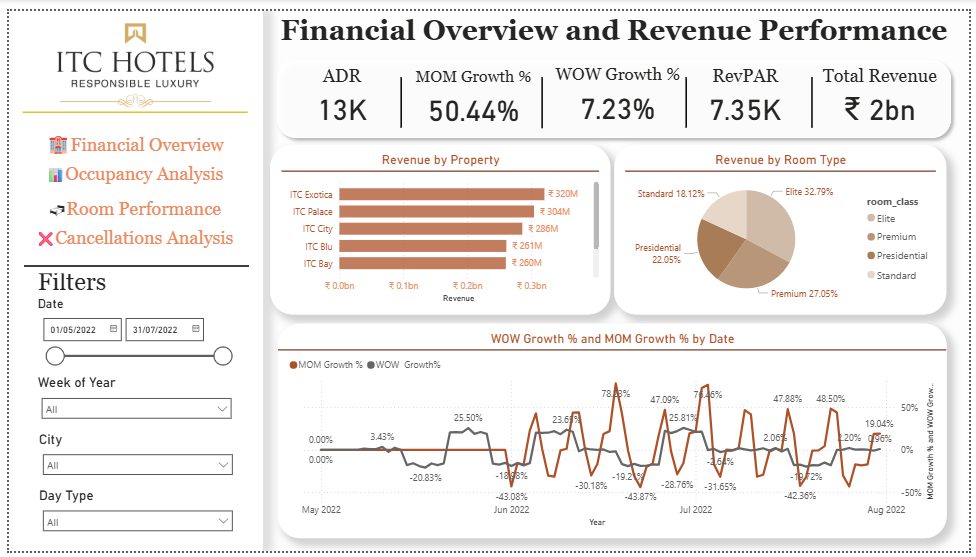

What the dashboard file says about the page in this screenshot:
{"tool":"powerbi","page":{"name":"Financial Overview ","canvas":[1280,720],"ordinal":0},"visuals":[{"type":"shape","title":"panel_Sidebar","box":[5,0,333.3,720],"z":0},{"type":"textbox","box":[333.3,0,946.7,56.7],"z":1000},{"type":"shape","box":[348.3,56.7,916.7,121.7],"z":2000},{"type":"textbox","title":"txt_Cancellations","box":[11.8,283.6,311.8,41.8],"z":3000},{"type":"shape","box":[511.2,88.8,22.5,67.5],"z":4000},{"type":"textbox","title":"txt_RoomPerf","box":[11.8,241.8,311.8,41.8],"z":5000},{"type":"card","title":"ADR","fields":{"Values":["key_measures.ADR"]},"box":[366.2,71.2,155,85],"z":6000},{"type":"textbox","title":"txt_Occupancy","box":[11.8,198.2,311.8,43.6],"z":7000},{"type":"card","title":"MOM Growth %","fields":{"Values":["ITC.MOM Growth %"]},"box":[535,75,168.3,85],"z":8000},{"type":"textbox","title":"txt_Financial","box":[12,157,312,42],"z":9000},{"type":"card","title":"Total Revenue","fields":{"Values":["key_measures.Revenue"]},"box":[1071.2,71.2,178.8,85],"z":10000},{"type":"actionButton","title":"btn_Cancellations","box":[15,285,313.3,41.7],"z":11000},{"type":"card","title":"RevPAR","fields":{"Values":["key_measures.RevPAR"]},"box":[891.2,71.2,180,85],"z":12000},{"type":"actionButton","title":"btn_RoomPerf","box":[15,243.3,313.3,40],"z":13000},{"type":"card","title":"WOW Growth %","fields":{"Values":["ITC.WOW  Growth%"]},"box":[721.7,71.7,180,85],"z":14000},{"type":"actionButton","title":"btn_Occupancy","box":[11.7,198.3,316.7,45],"z":15000},{"type":"shape","box":[700,88.3,21.7,68.3],"z":16000},{"type":"actionButton","title":"btn_Financial","box":[11.7,156.7,311.7,40],"z":17000},{"type":"shape","box":[891.2,88.8,22.5,67.5],"z":18000},{"type":"shape","box":[1060,88.8,21.2,67.5],"z":19000},{"type":"barChart","title":"Revenue by Property","fields":{"Category":["dim_hotels.property_name"],"Y":["key_measures.Revenue"]},"box":[348.3,178.3,453.3,226.7],"z":20000},{"type":"pieChart","title":"Revenue by Room Type","fields":{"Category":["dim_rooms.room_class"],"Y":["key_measures.Revenue"]},"box":[806.7,178.3,443.3,226.7],"z":21000},{"type":"lineChart","title":"WOW Growth % and MOM Growth % by Date","fields":{"Category":["dim_date.date.Variation.Date Hierarchy.Year","dim_date.date.Variation.Date Hierarchy.Quarter","dim_date.date.Variation.Date Hierarchy.Month","dim_date.date.Variation.Date Hierarchy.Day"],"Y":["ITC.MOM Growth %","ITC.WOW  Growth%"]},"box":[358.3,416.7,891.7,286.7],"z":22000},{"type":"shape","box":[18.3,123.3,300,23.3],"z":24000},{"type":"slicer","title":"Date","fields":{"Values":["dim_date.date"]},"box":[33.3,380,273.3,105],"z":26000},{"type":"shape","box":[20,320,300,40],"z":26001},{"type":"textbox","box":[33.3,345,173.3,46.7],"z":26002},{"type":"slicer","title":"Week of Year","fields":{"Values":["dim_date.week no"]},"box":[33.3,485,273.3,75],"z":26003},{"type":"slicer","title":"City","fields":{"Values":["dim_hotels.city"]},"box":[35,560,273.3,75],"z":26004},{"type":"slicer","title":"Day Type","fields":{"Values":["dim_date.day type"]},"box":[35,635,273.3,75],"z":26005},{"type":"image","box":[18.3,11.7,300,121.7],"z":26006}]}

Visuals, with their boxes in screenshot pixels (x1, y1, x2, y2), scaled from the page's 1280x720 canvas onto the 976x557 screenshot:
"panel_Sidebar" shape: x1=4 y1=0 x2=258 y2=556
textbox: x1=254 y1=0 x2=975 y2=44
shape: x1=266 y1=44 x2=965 y2=138
"txt_Cancellations" textbox: x1=9 y1=219 x2=247 y2=252
shape: x1=390 y1=69 x2=407 y2=121
"txt_RoomPerf" textbox: x1=9 y1=187 x2=247 y2=219
"ADR" card: x1=279 y1=55 x2=397 y2=121
"txt_Occupancy" textbox: x1=9 y1=153 x2=247 y2=187
"MOM Growth %" card: x1=408 y1=58 x2=536 y2=124
"txt_Financial" textbox: x1=9 y1=121 x2=247 y2=154
"Total Revenue" card: x1=817 y1=55 x2=953 y2=121
"btn_Cancellations" actionButton: x1=11 y1=220 x2=250 y2=253
"RevPAR" card: x1=680 y1=55 x2=817 y2=121
"btn_RoomPerf" actionButton: x1=11 y1=188 x2=250 y2=219
"WOW Growth %" card: x1=550 y1=55 x2=688 y2=121
"btn_Occupancy" actionButton: x1=9 y1=153 x2=250 y2=188
shape: x1=534 y1=68 x2=550 y2=121
"btn_Financial" actionButton: x1=9 y1=121 x2=247 y2=152
shape: x1=680 y1=69 x2=697 y2=121
shape: x1=808 y1=69 x2=824 y2=121
"Revenue by Property" barChart: x1=266 y1=138 x2=611 y2=313
"Revenue by Room Type" pieChart: x1=615 y1=138 x2=953 y2=313
"WOW Growth % and MOM Growth % by Date" lineChart: x1=273 y1=322 x2=953 y2=544
shape: x1=14 y1=95 x2=243 y2=113
"Date" slicer: x1=25 y1=294 x2=234 y2=375
shape: x1=15 y1=248 x2=244 y2=278
textbox: x1=25 y1=267 x2=158 y2=303
"Week of Year" slicer: x1=25 y1=375 x2=234 y2=433
"City" slicer: x1=27 y1=433 x2=235 y2=491
"Day Type" slicer: x1=27 y1=491 x2=235 y2=549
image: x1=14 y1=9 x2=243 y2=103
